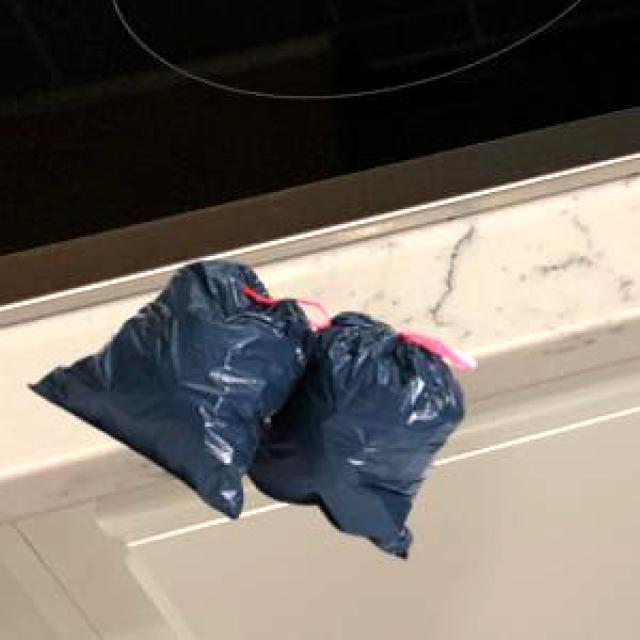Bolsa-de-plastico: (18, 243, 318, 520), (250, 303, 478, 560)
